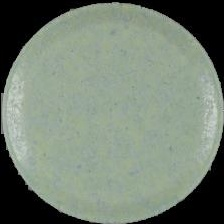16590-338: (0, 0, 224, 224)
